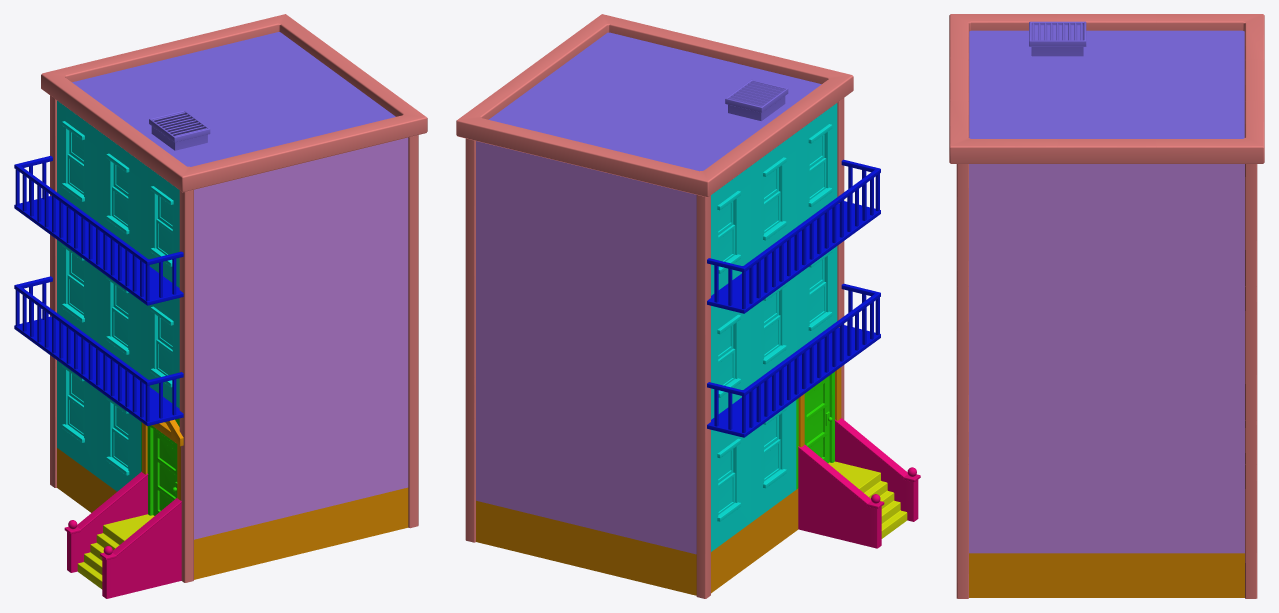
3 views of the same model, side by side, from view 1: azimuth 30°, elevation 25°; view 2: azimuth 150°, elevation 25°; view 3: azimuth 270°, elevation 25° (orthographic). The views are drawn at different scales.
Visible parts, largest first — view 1: Pared E2.051, Pared E2.048, Pared E2.054, Pared E2.049, Pared E2.052, Pared E2.050, Pared E2.047, Pared E2.055, Pared E2.053, Soporte barandilla entrada.006, Plane.218, Cube.300 (+57 smaller); view 2: Pared E2.057, Pared E2.060, Pared E2.063, Pared E2.061, Pared E2.056, Pared E2.058, Pared E2.059, Pared E2.064, Pared E2.062, Soporte barandilla entrada.007, Plane.218, Cube.301 (+54 smaller); view 3: Pared E2.039, Pared E2.042, Pared E2.045, Pared E2.038, Pared E2.040, Pared E2.041, Pared E2.043, Pared E2.044, Pared E2.046, Pared inferior.035, Plane.218, Pared inferior.034 (+27 smaller).
Part boxes in pixels (x1,y1,x2,y2): Pared E2.051: (262, 263, 339, 402); Pared E2.048: (262, 384, 339, 522); Pared E2.054: (262, 154, 339, 281); Pared E2.049: (339, 367, 408, 504); Pared E2.052: (339, 246, 408, 383); Pared E2.050: (194, 282, 262, 418); Pared E2.047: (194, 402, 262, 539); Pared E2.055: (339, 137, 408, 262); Pared E2.053: (194, 173, 262, 298); Soporte barandilla entrada.006: (102, 503, 181, 598); Plane.218: (174, 77, 294, 128); Cube.300: (133, 138, 266, 192); Pared E2.057: (547, 394, 625, 537); Pared E2.060: (547, 270, 625, 413); Pared E2.063: (547, 158, 625, 289); Pared E2.061: (476, 253, 546, 393); Pared E2.056: (626, 413, 696, 554); Pared E2.058: (476, 377, 546, 517); Pared E2.059: (626, 289, 696, 430); Pared E2.064: (476, 141, 546, 269); Pared E2.062: (626, 177, 696, 306); Soporte barandilla entrada.007: (798, 448, 881, 548); Plane.218: (593, 79, 716, 131); Cube.301: (621, 141, 758, 197); Pared E2.039: (1057, 419, 1156, 553); Pared E2.042: (1057, 285, 1156, 419); Pared E2.045: (1057, 164, 1156, 285); Pared E2.038: (969, 419, 1057, 553); Pared E2.040: (1156, 419, 1244, 553); Pared E2.041: (969, 285, 1057, 419); Pared E2.043: (1156, 285, 1244, 419); Pared E2.044: (969, 164, 1057, 285); Pared E2.046: (1156, 164, 1244, 285); Pared inferior.035: (1057, 553, 1156, 597); Plane.218: (1057, 68, 1156, 109); Pared inferior.034: (969, 553, 1057, 597).
Bounding box in the file's own units: 824 × 1036 × 641.
